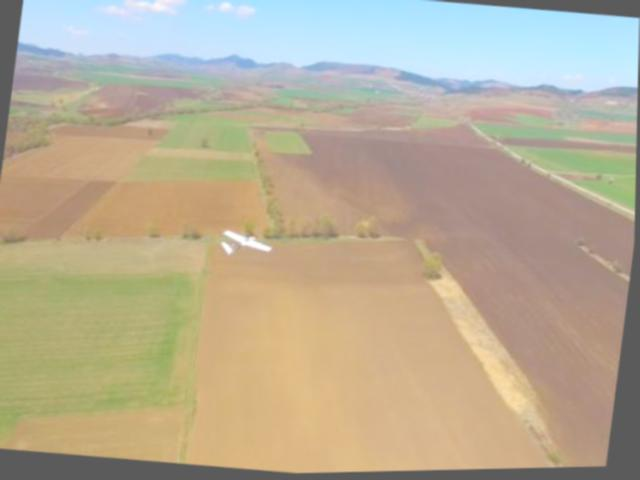uav: (211, 220, 280, 271)
